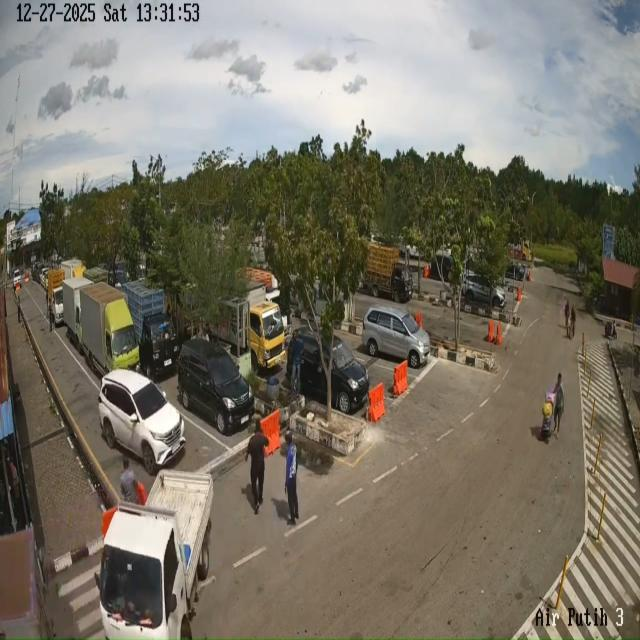Golongan IVA: (98, 369, 186, 475), (177, 338, 255, 435), (286, 328, 370, 413), (362, 305, 430, 369), (462, 272, 506, 308)
Golongan IVB: (95, 469, 214, 640), (362, 243, 413, 303), (47, 268, 65, 326)
Golongan VB: (80, 282, 139, 378), (62, 277, 92, 347)
